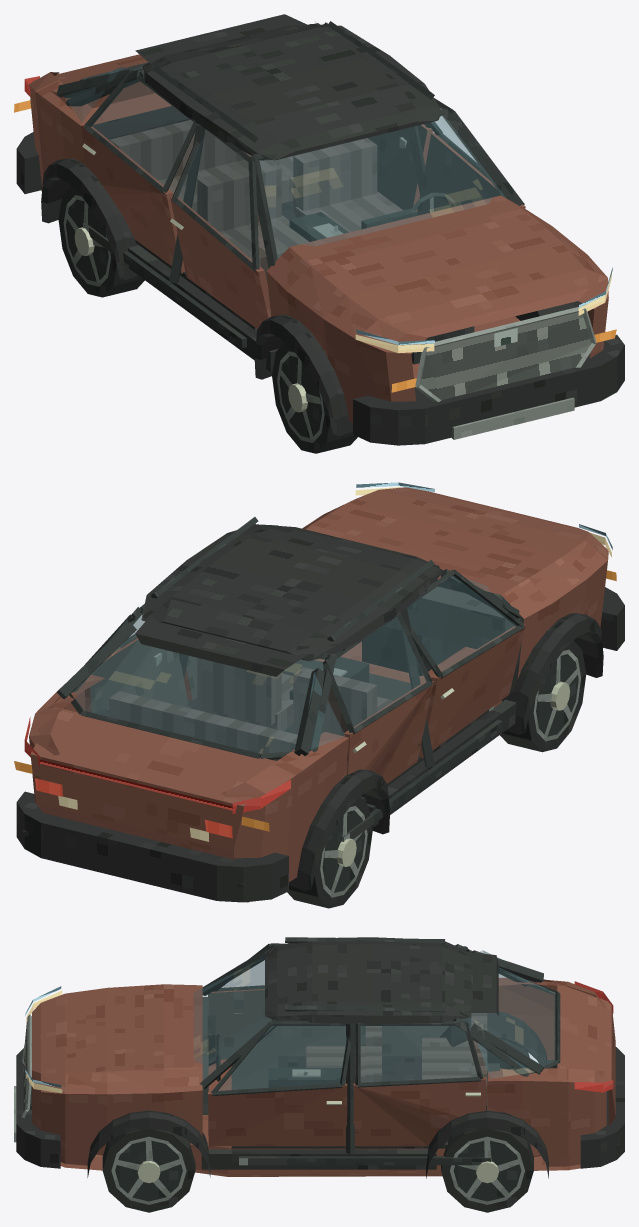
Rendered from stoneweir-2015.glb.
The picture shows the model from 3 angles, top to bottom: view 1: azimuth 30°, elevation 25°; view 2: azimuth 150°, elevation 25°; view 3: azimuth 270°, elevation 25°; orthographic projection. The views are drawn at different scales.
Visible parts, largest first — view 1: body, Hood opening panel, Hinged side glass.003, Hinged side glass.002, Shaped hinged outer door.002, Shaped hinged outer door.003, Padded inside door panel, Padded inside door panel.001, Sculpted liftgate skin, Liftgate roof spoiler, Wheel side annulus.003, Tyre tread and scalloped shoulders.001 (+5 smaller); view 2: body, Sculpted liftgate skin, Hood opening panel, Rear safety glass.001, Hinged side glass.003, Hinged side glass.002, Shaped hinged outer door.002, Shaped hinged outer door.003, Padded inside door panel.001, Liftgate roof spoiler, Rear safety glass, Wheel side annulus.003 (+8 smaller); view 3: body, Hood opening panel, Shaped hinged outer door, Shaped hinged outer door.001, Hinged side glass, Hinged side glass.001, Padded inside door panel.002, Sculpted liftgate skin, Rear safety glass.001, Tyre tread and scalloped shoulders, Tyre tread and scalloped shoulders.002, Wheel side annulus.001 (+14 smaller).
Boxes of the visible parts, left/top/right/bottom form: body: left=16, top=21, right=624, bottom=445; Hood opening panel: left=290, top=195, right=588, bottom=337; Hinged side glass.003: left=90, top=79, right=192, bottom=186; Hinged side glass.002: left=177, top=129, right=251, bottom=261; Shaped hinged outer door.002: left=170, top=197, right=268, bottom=328; Shaped hinged outer door.003: left=82, top=125, right=181, bottom=273; Padded inside door panel: left=417, top=134, right=501, bottom=215; Padded inside door panel.001: left=368, top=125, right=427, bottom=210; Sculpted liftgate skin: left=32, top=54, right=171, bottom=124; Liftgate roof spoiler: left=135, top=14, right=308, bottom=63; Wheel side annulus.003: left=279, top=355, right=322, bottom=437; Tyre tread and scalloped shoulders.001: left=272, top=342, right=357, bottom=453; body: left=16, top=492, right=624, bottom=902; Sculpted liftgate skin: left=30, top=707, right=287, bottom=859; Hood opening panel: left=306, top=487, right=588, bottom=594; Rear safety glass.001: left=85, top=640, right=304, bottom=753; Hinged side glass.003: left=333, top=617, right=426, bottom=727; Hinged side glass.002: left=407, top=575, right=516, bottom=671; Shaped hinged outer door.002: left=422, top=625, right=525, bottom=758; Shaped hinged outer door.003: left=348, top=681, right=433, bottom=783; Padded inside door panel.001: left=90, top=640, right=188, bottom=712; Liftgate roof spoiler: left=135, top=615, right=308, bottom=676; Rear safety glass: left=262, top=658, right=324, bottom=753; Wheel side annulus.003: left=536, top=654, right=578, bottom=736; body: left=14, top=937, right=624, bottom=1178; Hood opening panel: left=32, top=984, right=202, bottom=1073; Shaped hinged outer door: left=208, top=1086, right=347, bottom=1146; Shaped hinged outer door.001: left=353, top=1079, right=486, bottom=1146; Hinged side glass: left=218, top=1025, right=346, bottom=1090; Hinged side glass.001: left=361, top=1025, right=477, bottom=1082; Padded inside door panel.002: left=208, top=990, right=345, bottom=1057; Sculpted liftgate skin: left=557, top=983, right=615, bottom=1125; Rear safety glass.001: left=471, top=970, right=555, bottom=1060; Tyre tread and scalloped shoulders: left=102, top=1129, right=195, bottom=1212; Tyre tread and scalloped shoulders.002: left=441, top=1129, right=533, bottom=1212; Wheel side annulus.001: left=115, top=1140, right=182, bottom=1201.
Size of the model in its own units: 2.16 by 1.69 by 4.87.
6 materials, 6 textured.
